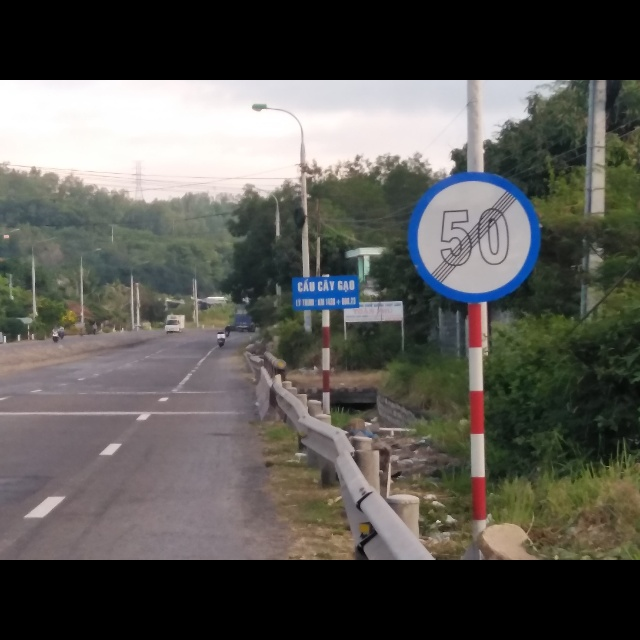Hết hạn chế tốc độ tối đa 50km/h: (404, 165, 541, 299)
